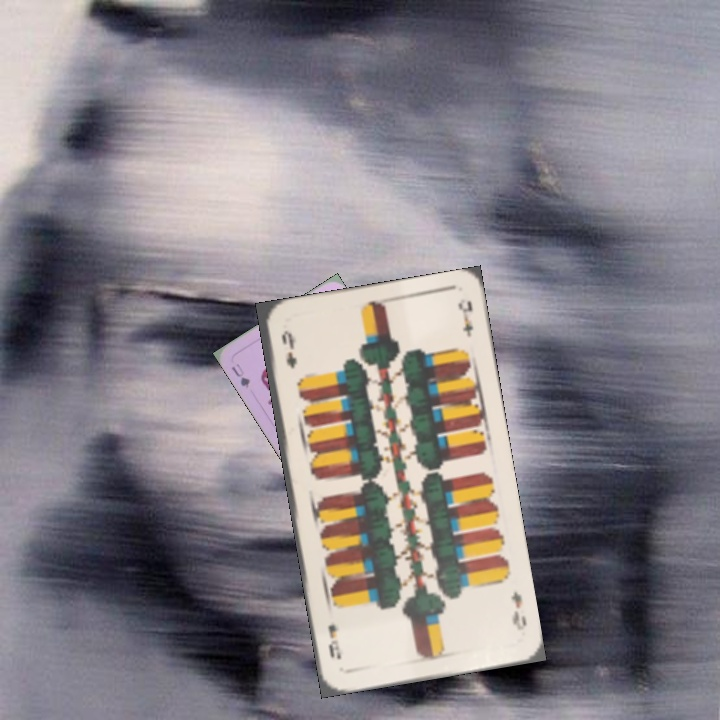E9: (277, 326, 300, 371), (507, 587, 529, 633)
GU: (227, 359, 253, 391)
